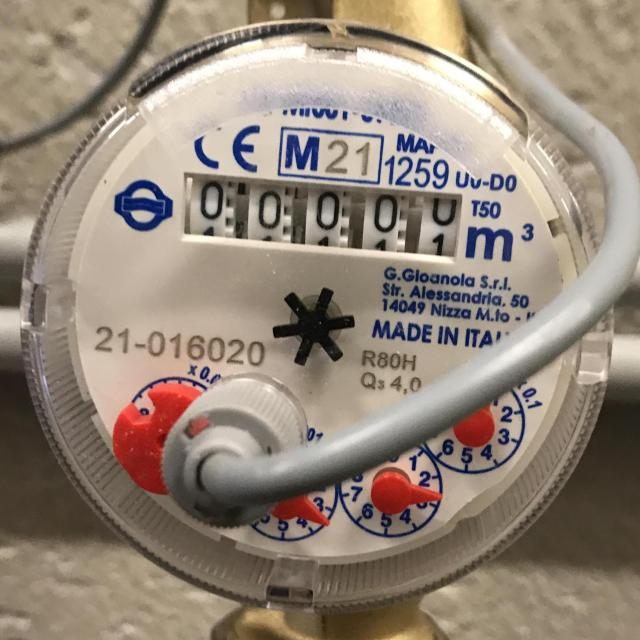gaz_meter: (20, 22, 617, 600)
indication: (180, 170, 464, 260)
